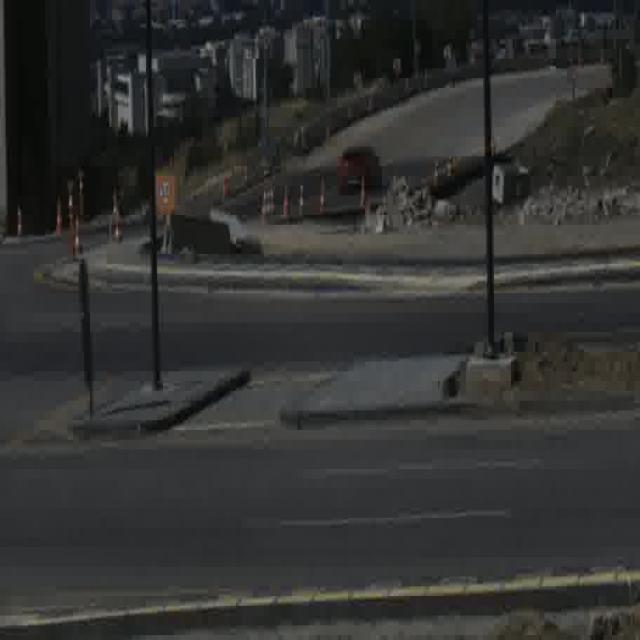Car: (336, 145, 382, 195)
